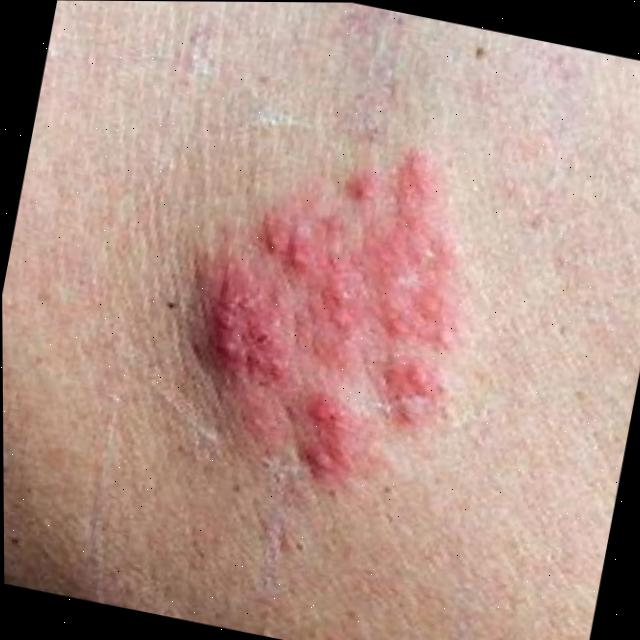Shingles: (161, 111, 492, 512)
